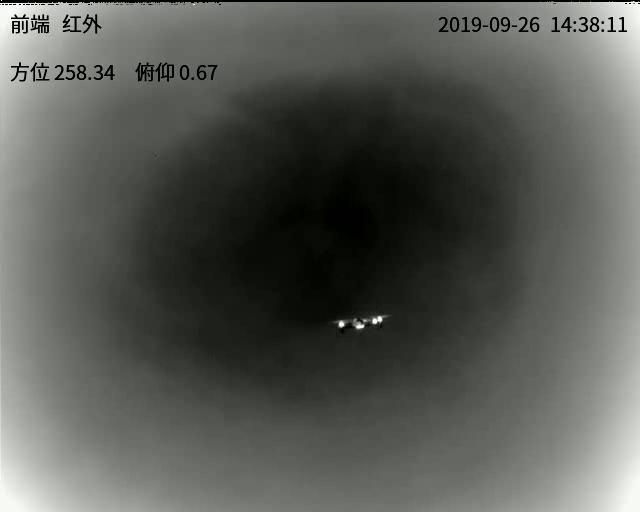DRONE: (331, 313, 386, 334)
